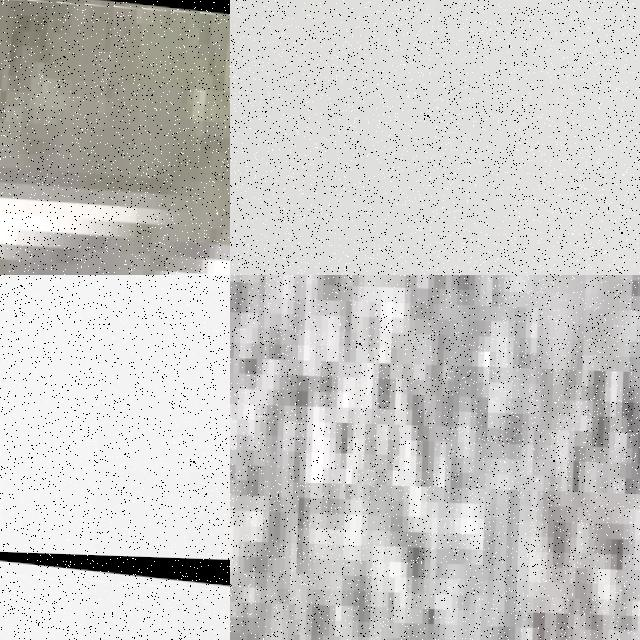drone: (0, 0, 230, 275), (0, 547, 230, 640)
